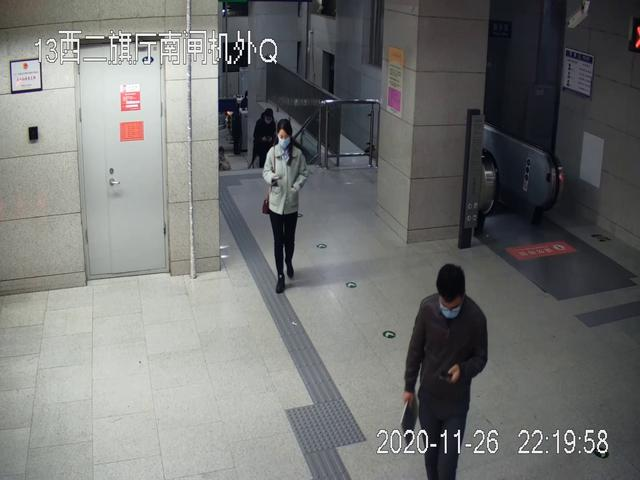person: (401, 262, 488, 480), (263, 118, 311, 295)
